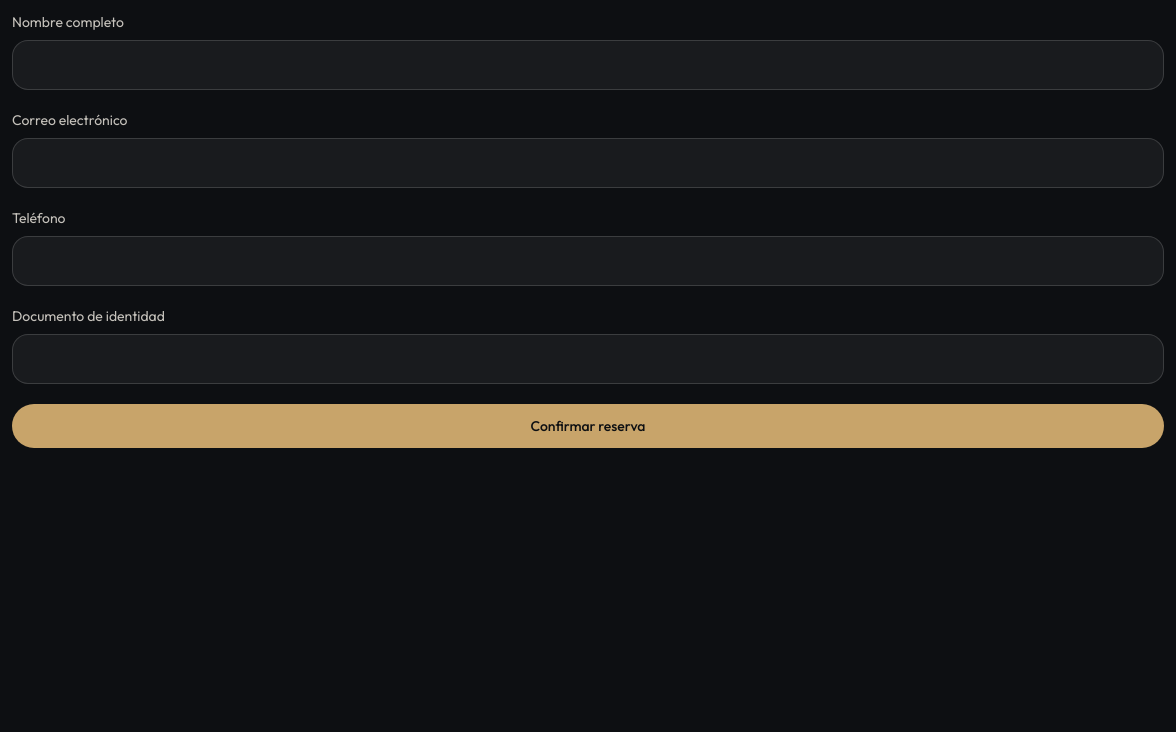
Test case: GuestForm › does not submit when invalid and shows Spanish messages
The width and height of the screenshot is (1176, 732).
Click the button "Confirmar reserva" at coordinates (588, 426), box [12, 404, 1164, 448]
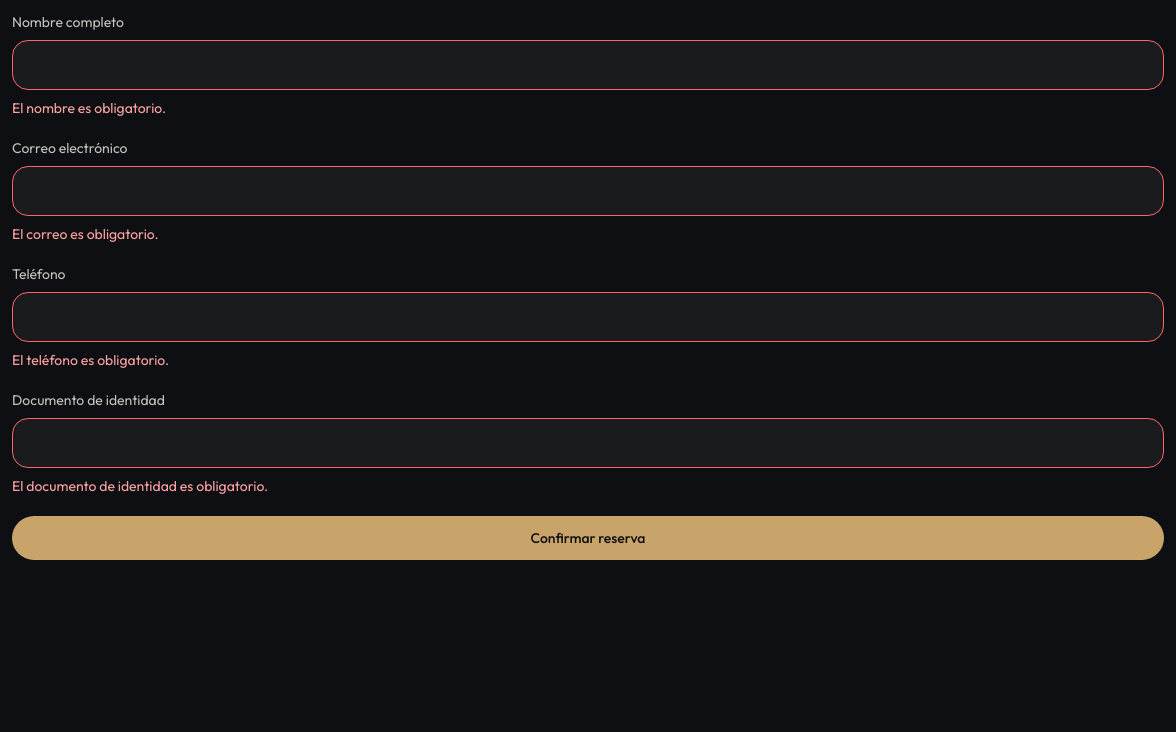
expect the text "El nombre es obligatorio." is shown: met, box [12, 99, 166, 117]
